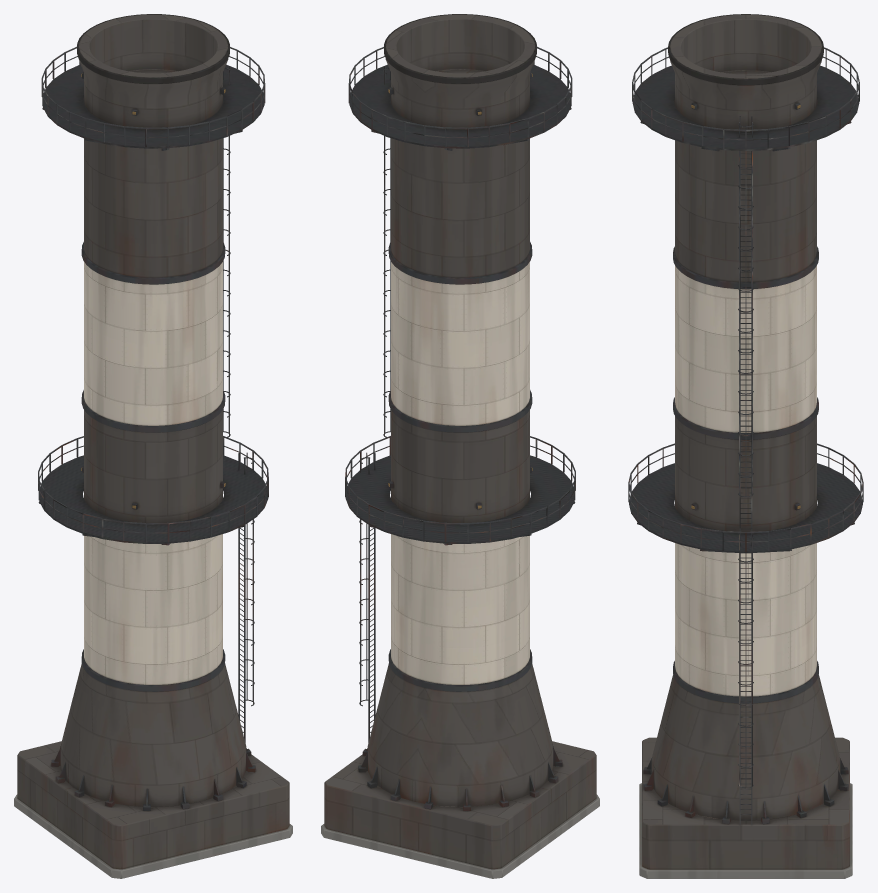
Rendered from bandedStack.glb.
3 views of the same model, side by side, from view 1: azimuth 30°, elevation 25°; view 2: azimuth 150°, elevation 25°; view 3: azimuth 270°, elevation 25° (orthographic).
Parts seen in each view (by area): view 1: bandedStack; view 2: bandedStack; view 3: bandedStack.
Part boxes in pixels (left/top/right/bottom): bandedStack: left=14, top=14, right=292, bottom=878; bandedStack: left=321, top=14, right=599, bottom=878; bandedStack: left=628, top=14, right=863, bottom=878.
Size of the model in its own units: 12.46 by 46 by 12.46.
Materials: 1 (1 with a texture image).
